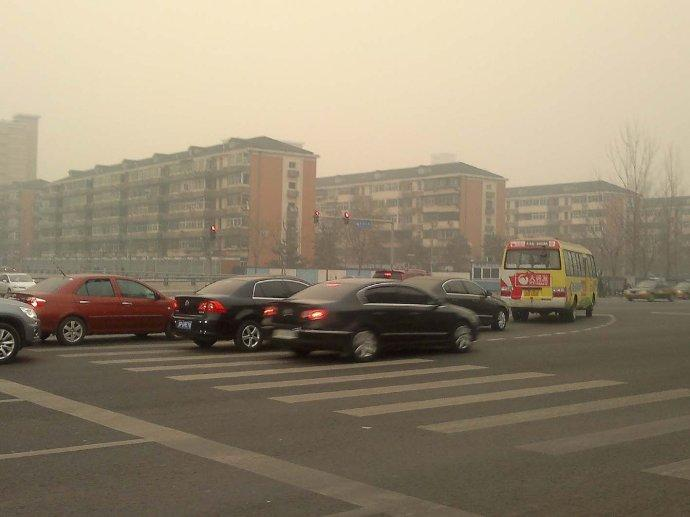bus: (496, 238, 601, 324)
car: (257, 276, 482, 362), (170, 274, 349, 349), (12, 270, 184, 345), (385, 275, 510, 335), (369, 269, 433, 310), (2, 298, 42, 363), (621, 275, 675, 303), (1, 272, 36, 298), (669, 278, 690, 299)
